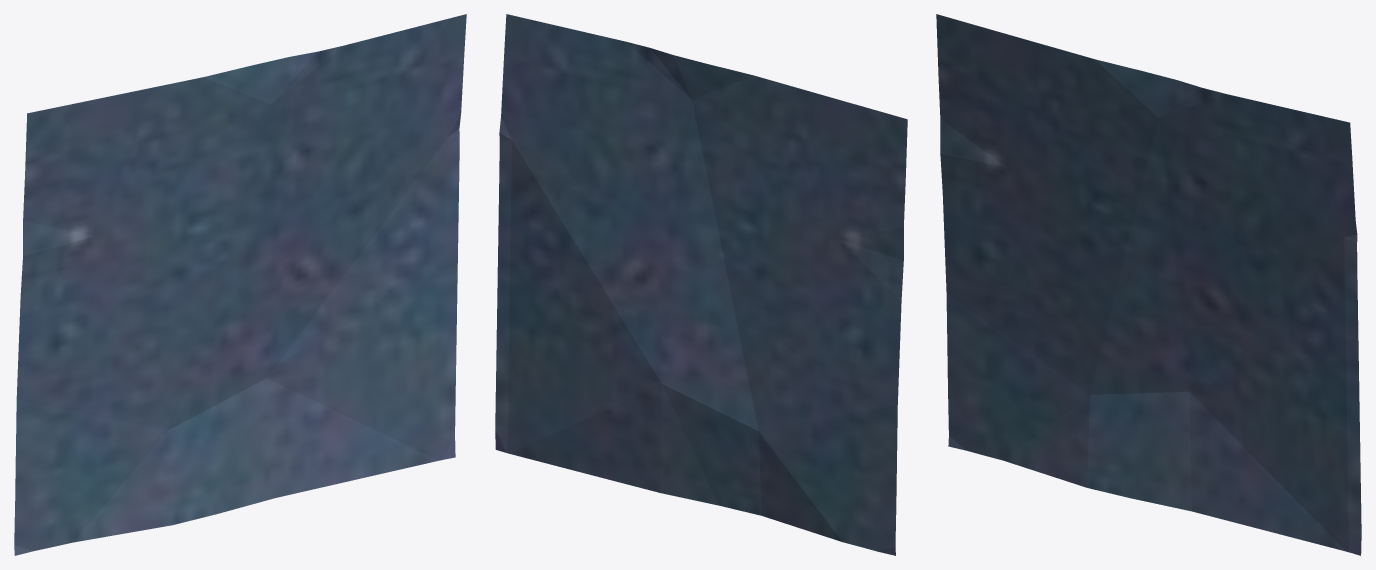
File: Tile_+001_+006_L24_0023110.obj
3 views of the same model, side by side, from view 1: azimuth 30°, elevation 25°; view 2: azimuth 150°, elevation 25°; view 3: azimuth 330°, elevation 25° (orthographic). The views are drawn at different scales.
Size of the model in its own units: 0.9531 by 0.9531 by 0.0865.
1 material, 1 textured.
